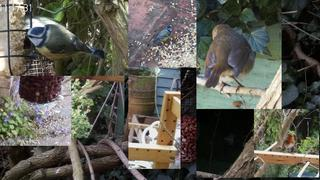blue tit: (24, 24, 104, 60), (152, 24, 172, 43)
robin: (203, 24, 258, 95), (281, 133, 295, 154)
